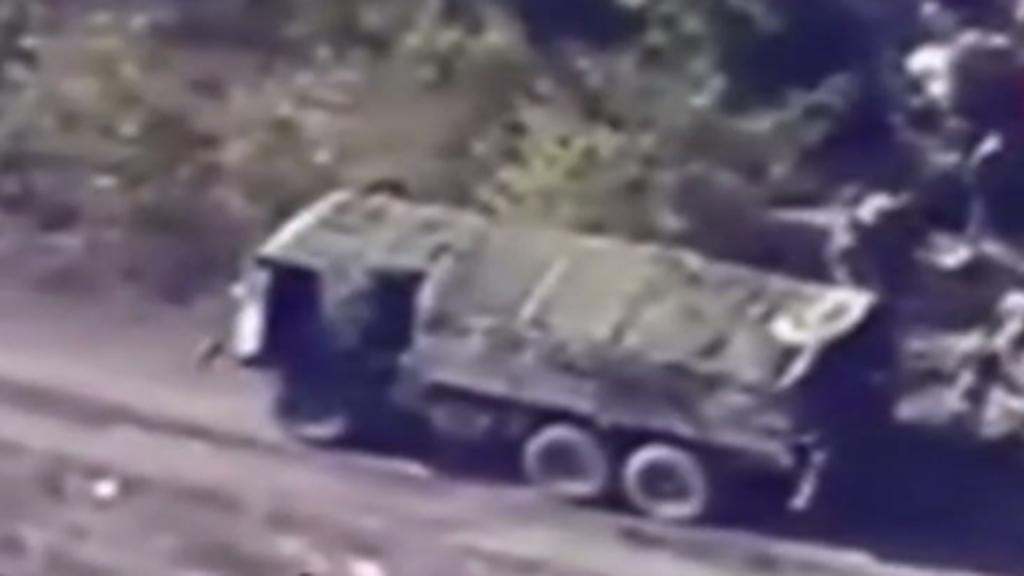TRUCK: (226, 187, 886, 530)
